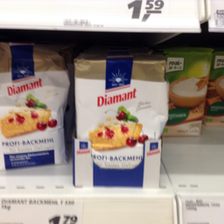flour: (74, 59, 168, 189), (1, 43, 70, 171)
